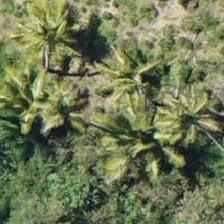coconut_tree: (76, 112, 166, 202), (91, 36, 181, 126), (0, 58, 79, 148), (0, 0, 82, 84), (160, 75, 223, 165)
